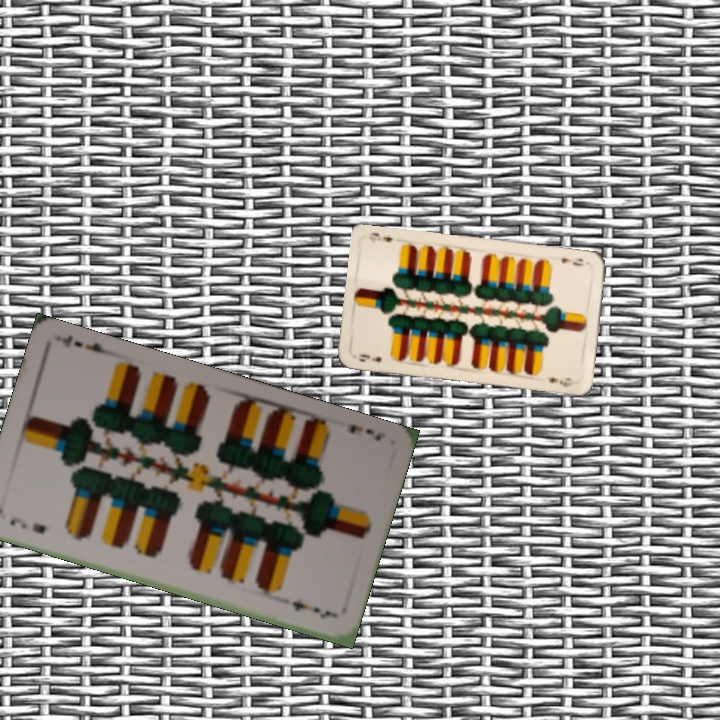E7: (6, 513, 49, 537), (345, 420, 389, 443)
E9: (557, 253, 586, 269), (354, 350, 384, 365)
